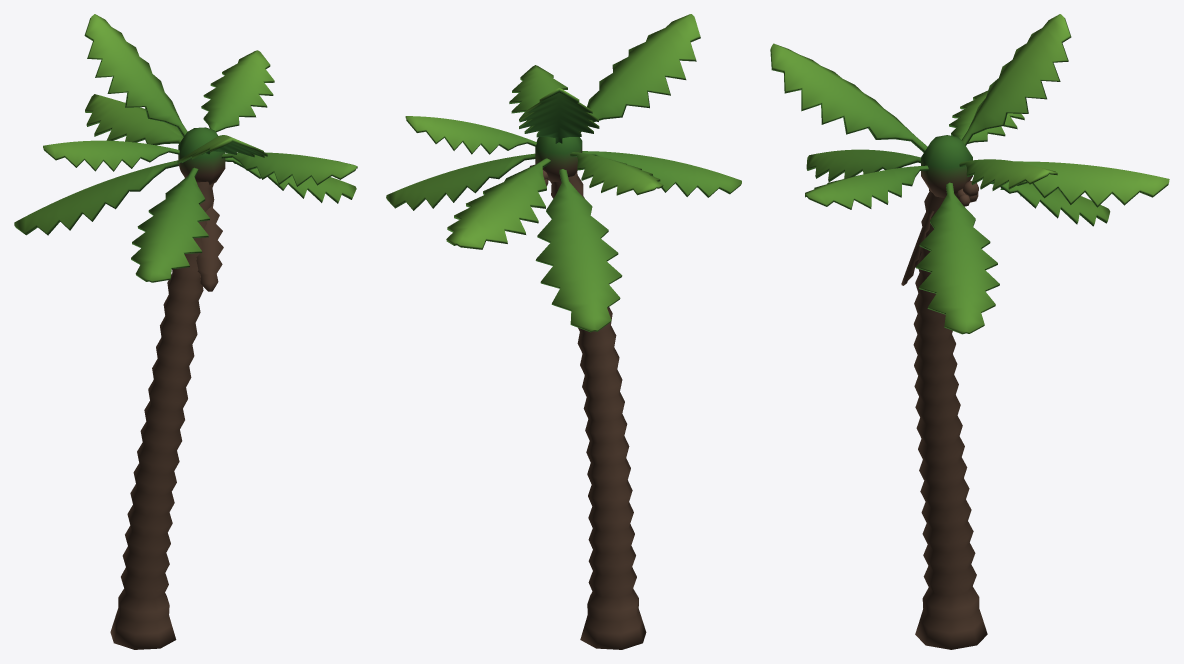
Rendered from fanpalm.lod0.glb.
3 renders of one model, left to right at view 1: azimuth 30°, elevation 25°; view 2: azimuth 150°, elevation 25°; view 3: azimuth 270°, elevation 25°, orthographic. The views are drawn at different scales.
Parts seen in each view (by area): view 1: fanpalm_s1_lod0; view 2: fanpalm_s1_lod0; view 3: fanpalm_s1_lod0.
Part boxes in pixels (x1,y1,x2,y2): fanpalm_s1_lod0: (14,14,357,649); fanpalm_s1_lod0: (386,14,741,649); fanpalm_s1_lod0: (770,14,1169,649).
Size of the model in its own units: 5.11 by 9.78 by 5.69.
